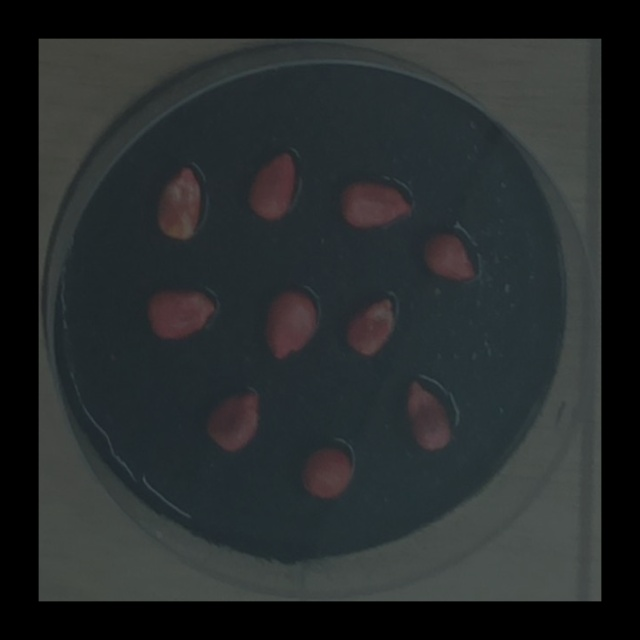Zea mays: (139, 277, 223, 346), (258, 281, 325, 366), (399, 370, 464, 456), (150, 154, 210, 246), (333, 172, 419, 235), (338, 286, 404, 362), (241, 143, 301, 225), (200, 384, 266, 458), (418, 223, 482, 287), (295, 440, 357, 504)
